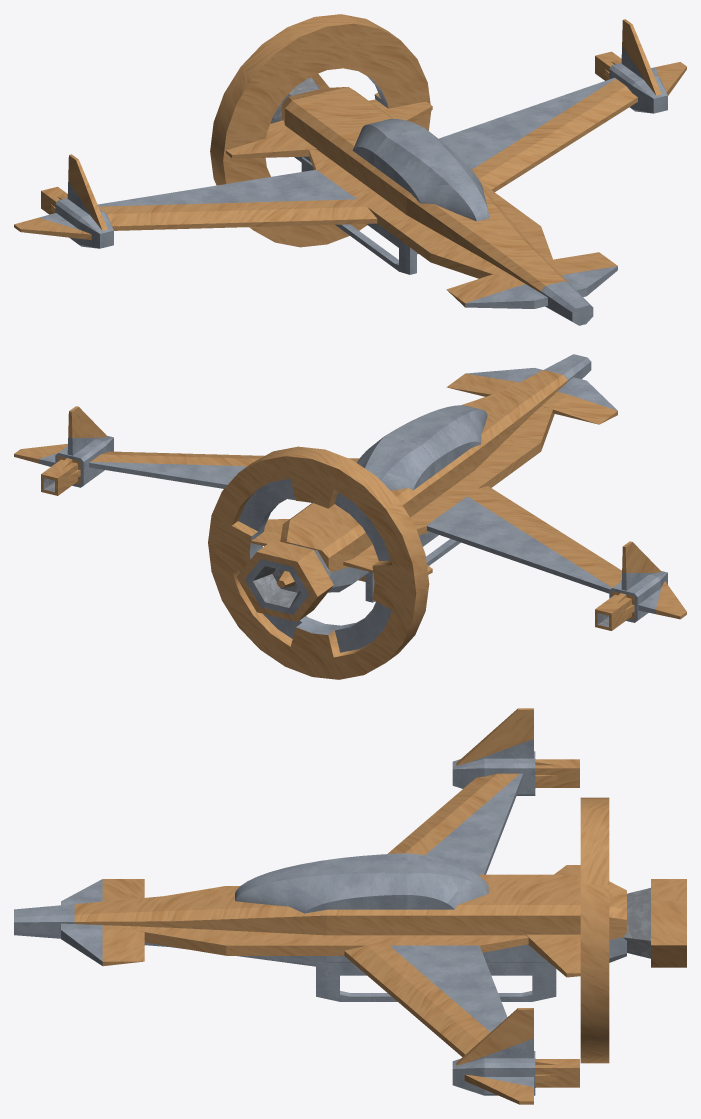
Rendered from Ship_Spiegel.fbx.
3 renders of one model, top to bottom at view 1: azimuth 30°, elevation 25°; view 2: azimuth 150°, elevation 25°; view 3: azimuth 270°, elevation 25°, orthographic. The views are drawn at different scales.
Parts seen in each view (by area): view 1: wing_longSlant (×2), turbine_edges%, window_slant (×2), hull_frontPoint, wing_long (×4), hull_body, wing_point (×2), rudder (×4), engine_detailed (×2), hull_cargoLower, engine_turbine; view 2: turbine_edges%, wing_longSlant (×2), window_slant (×2), engine_turbine, wing_long (×4), hull_frontPoint, engine_detailed (×2), wing_point, rudder (×4), hull_body, hull_front, hull_cargoLower; view 3: wing_longSlant (×2), hull_body, window_slant (×2), hull_frontPoint, turbine_edges%, wing_point, engine_detailed (×2), rudder (×3), wing_long (×3), engine_turbine, hull_cargoLower, hull_front.
Boxes of the visible parts, x1=… form: wing_longSlant (×2): x1=98, y1=77, x2=637, y2=230; turbine_edges%: x1=210, y1=14, x2=431, y2=247; window_slant (×2): x1=352, y1=119, x2=489, y2=221; hull_frontPoint: x1=406, y1=187, x2=593, y2=325; wing_long (×4): x1=226, y1=99, x2=617, y2=308; hull_body: x1=285, y1=87, x2=409, y2=214; wing_point (×2): x1=309, y1=149, x2=554, y2=278; rudder (×4): x1=14, y1=19, x2=686, y2=239; engine_detailed (×2): x1=41, y1=51, x2=667, y2=248; hull_cargoLower: x1=301, y1=157, x2=418, y2=274; engine_turbine: x1=270, y1=74, x2=329, y2=123; turbine_edges%: x1=208, y1=446, x2=429, y2=679; wing_longSlant (×2): x1=89, y1=451, x2=621, y2=593; window_slant (×2): x1=356, y1=405, x2=487, y2=490; engine_turbine: x1=236, y1=540, x2=333, y2=621; wing_long (×4): x1=251, y1=367, x2=617, y2=574; hull_frontPoint: x1=469, y1=354, x2=591, y2=469; engine_detailed (×2): x1=41, y1=435, x2=667, y2=630; wing_point: x1=410, y1=406, x2=554, y2=535; rudder (×4): x1=14, y1=406, x2=686, y2=619; hull_body: x1=285, y1=448, x2=474, y2=583; hull_front: x1=280, y1=520, x2=353, y2=592; hull_cargoLower: x1=358, y1=531, x2=460, y2=602; wing_longSlant (×2): x1=344, y1=773, x2=523, y2=1056; hull_body: x1=326, y1=874, x2=580, y2=962; window_slant (×2): x1=235, y1=853, x2=488, y2=913; hull_frontPoint: x1=14, y1=886, x2=326, y2=966; turbine_edges%: x1=580, y1=797, x2=609, y2=1063; wing_point: x1=136, y1=926, x2=528, y2=955; engine_detailed (×2): x1=452, y1=751, x2=579, y2=1095; rudder (×3): x1=456, y1=708, x2=533, y2=1104; wing_long (×3): x1=61, y1=879, x2=580, y2=977; engine_turbine: x1=623, y1=879, x2=686, y2=967; hull_cargoLower: x1=316, y1=961, x2=556, y2=1001; hull_front: x1=609, y1=881, x2=626, y2=962.
Size of the model in its own units: 94.7 by 29.6 by 74.7.
